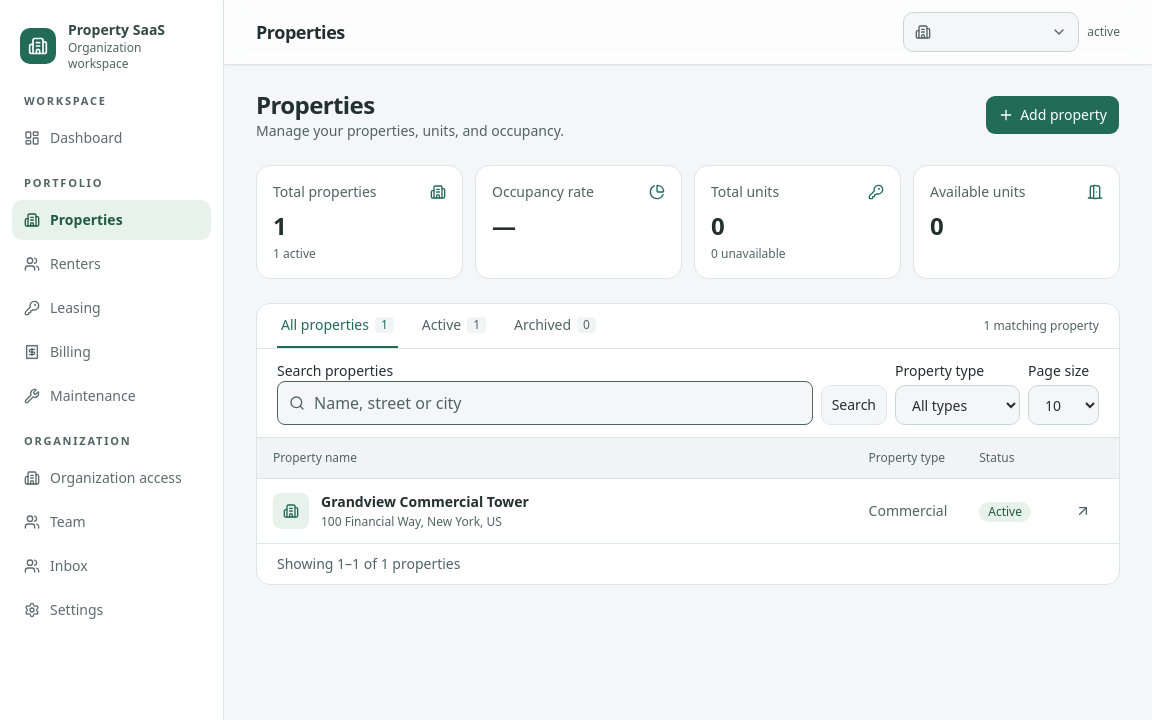
Scenario: navigates to Renters and marks only that destination active
Click the link "Renters" at [62, 263], box [24,254,101,273]
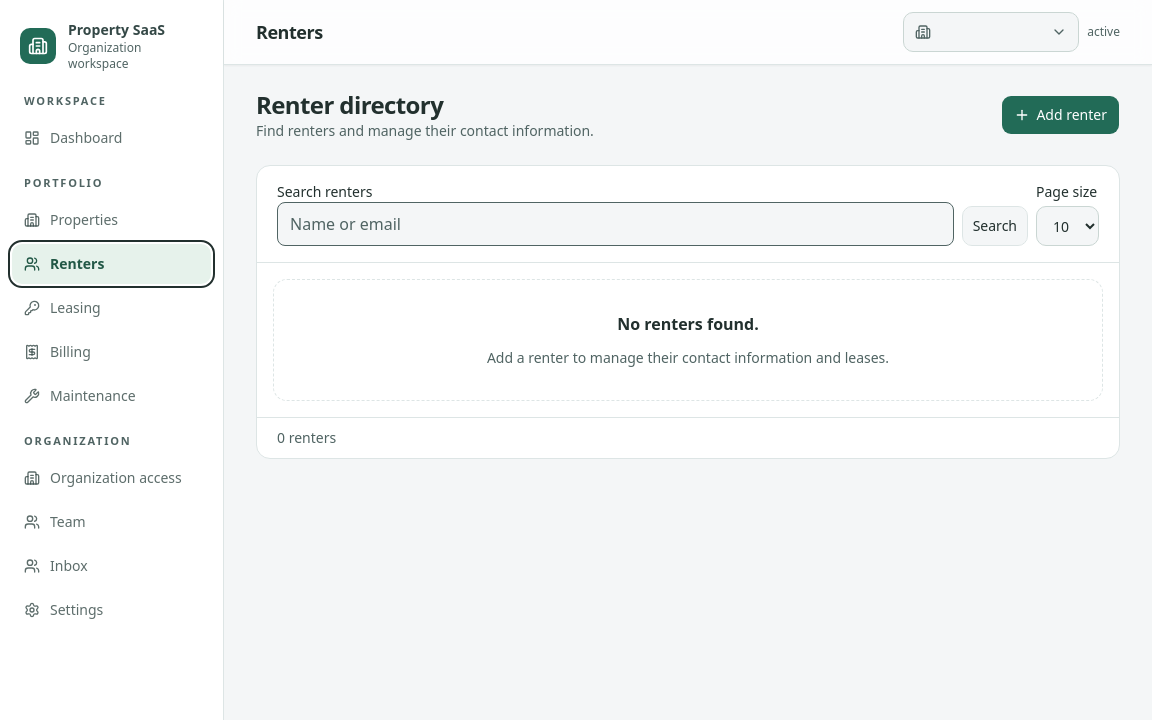
Expected: the heading "Renter directory" is shown, [256,88,443,121]
Expected: the heading "Renters" is shown, [256,18,323,46]
